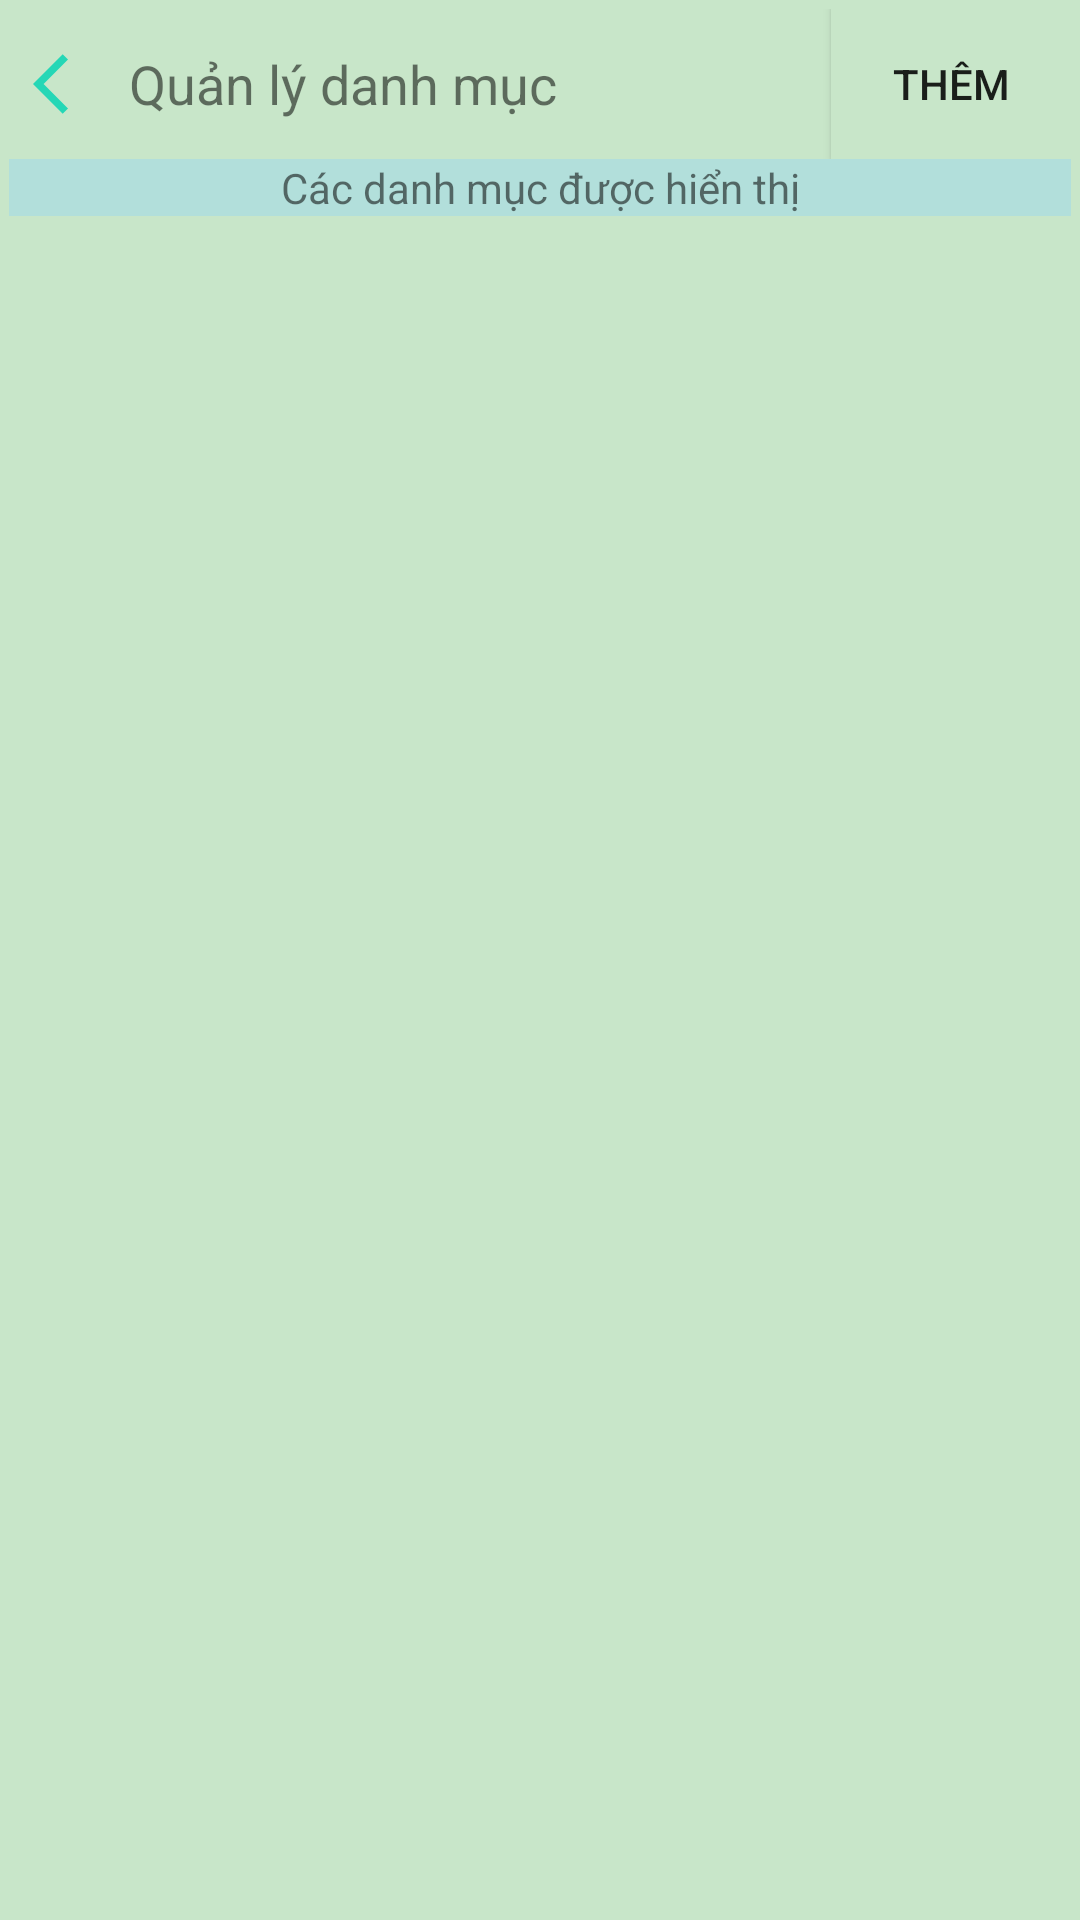

Named icons in this screenshot (1080px x 1920px) and their bounding boxes, [x1,y1,x2,y2]:
back: [33,54,68,114]
